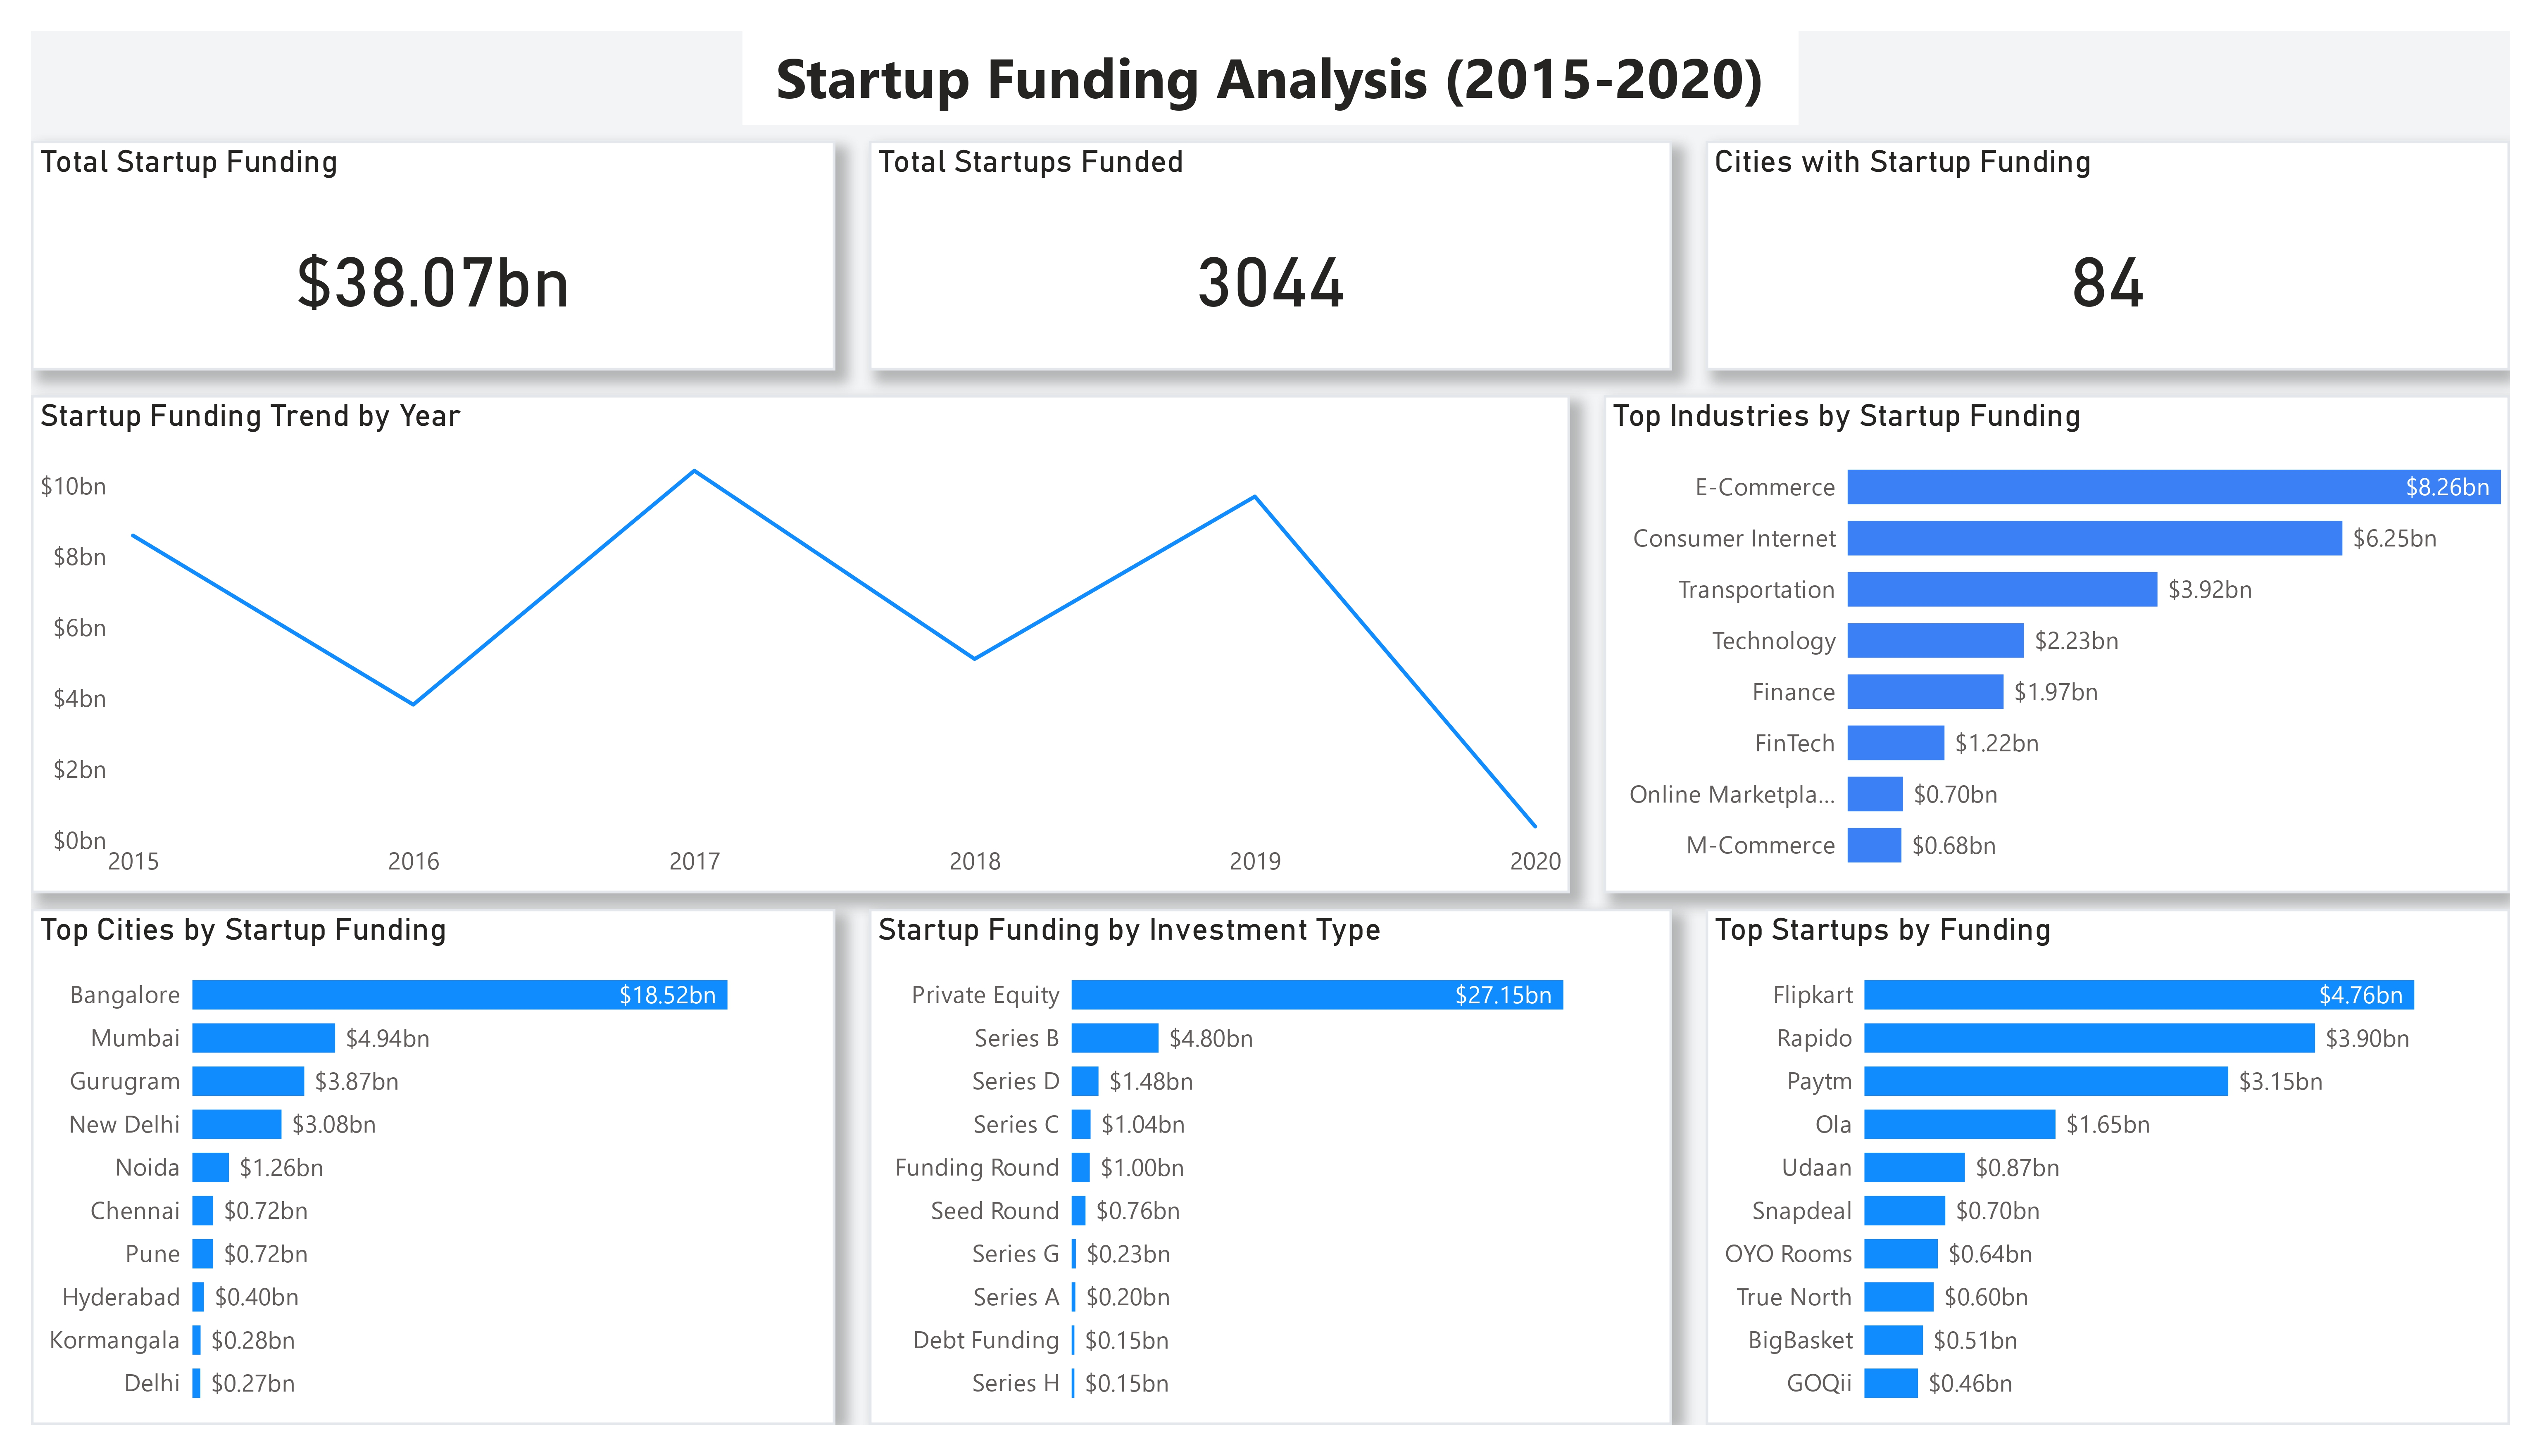

The page's visual inventory and layout, read from the dashboard file:
{"tool":"powerbi","page":{"name":"Page 1","canvas":[1920,1080],"ordinal":0},"visuals":[{"type":"lineChart","title":"Startup Funding Trend by Year","fields":{"Category":["startup_funding.Date dd/mm/yyyy.Variation.Date Hierarchy.Year","startup_funding.Date dd/mm/yyyy.Variation.Date Hierarchy.Quarter","startup_funding.Date dd/mm/yyyy.Variation.Date Hierarchy.Month","startup_funding.Date dd/mm/yyyy.Variation.Date Hierarchy.Day"],"Y":["Sum(startup_funding.Amount in USD)"]},"box":[0,281.9,1192,385.9],"z":0},{"type":"clusteredBarChart","title":"Top Cities by Startup Funding","fields":{"Y":["Sum(startup_funding.Amount in USD)"],"Category":["startup_funding.City  Location"]},"box":[0,679.9,623,399.8],"z":1000},{"type":"clusteredBarChart","title":"Top Industries by Startup Funding","fields":{"Y":["Sum(startup_funding.Amount in USD)"],"Category":["startup_funding.Industry Vertical"]},"box":[1218.2,281.6,701.8,386.6],"z":2000},{"type":"clusteredBarChart","title":"Startup Funding by Investment Type","fields":{"Y":["Sum(startup_funding.Amount in USD)"],"Category":["startup_funding.InvestmentnType"]},"box":[648.5,679.9,623,399.8],"z":3000},{"type":"clusteredBarChart","title":"Top Startups by Funding","fields":{"Y":["Sum(startup_funding.Amount in USD)"],"Category":["startup_funding.Startup Name"]},"box":[1297,679.9,623,399.8],"z":4000},{"type":"textbox","box":[551.5,0,817,72.9],"z":5000},{"type":"card","title":"Total Startup Funding","fields":{"Values":["Sum(startup_funding.Amount in USD)"]},"box":[0,84.6,623,178],"z":6000},{"type":"card","title":"Total Startups Funded","fields":{"Values":["CountNonNull(startup_funding.Startup Name)"]},"box":[648.5,84.6,623,178],"z":7000},{"type":"card","title":"Cities with Startup Funding","fields":{"Values":["Count(startup_funding.City  Location)"]},"box":[1297,84.6,623,178],"z":8000}]}

Visuals, with their boxes on the page's 1920x1080 design canvas (x1, y1, x2, y2). These are canvas units, not pixel positions in the 2541x1456 screenshot, which may show the page scaled, cropped or inside an application window:
"Startup Funding Trend by Year" lineChart: detection(0, 282, 1192, 668)
"Top Cities by Startup Funding" clusteredBarChart: detection(0, 680, 623, 1080)
"Top Industries by Startup Funding" clusteredBarChart: detection(1218, 282, 1920, 668)
"Startup Funding by Investment Type" clusteredBarChart: detection(648, 680, 1272, 1080)
"Top Startups by Funding" clusteredBarChart: detection(1297, 680, 1920, 1080)
textbox: detection(552, 0, 1368, 73)
"Total Startup Funding" card: detection(0, 85, 623, 263)
"Total Startups Funded" card: detection(648, 85, 1272, 263)
"Cities with Startup Funding" card: detection(1297, 85, 1920, 263)
